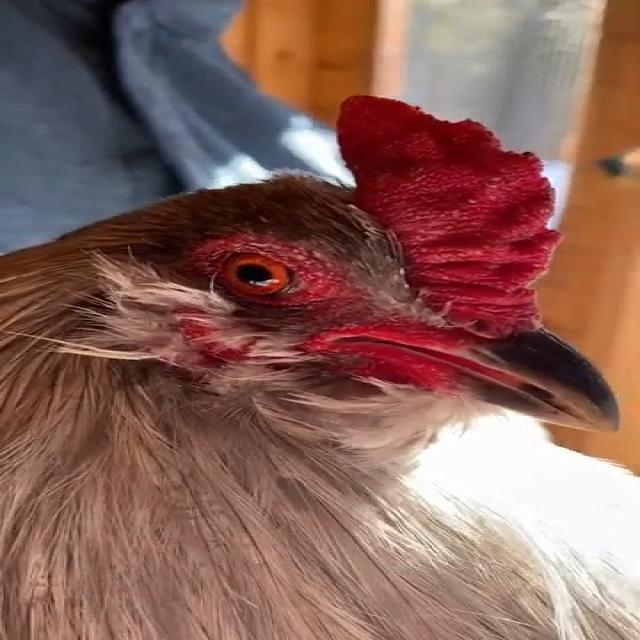Breathing: (0, 92, 636, 638)
